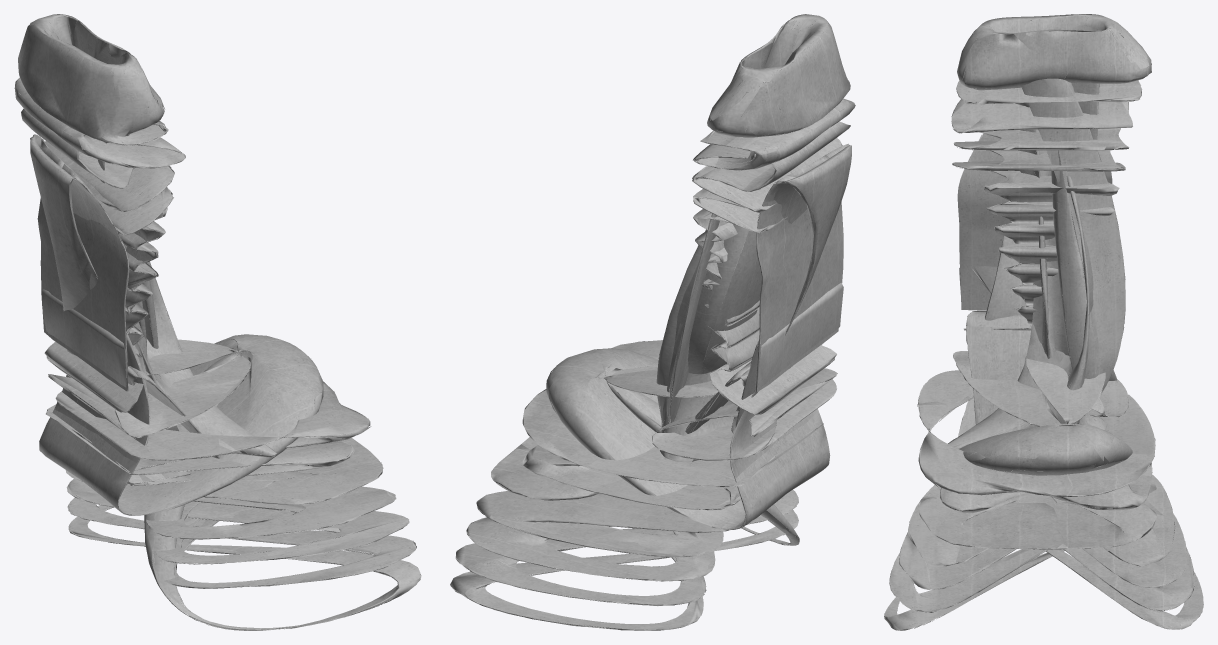
The model's file is higgs-boson-concrete-r-v26.glb.
3 views of the same model, side by side, from view 1: azimuth 30°, elevation 25°; view 2: azimuth 150°, elevation 25°; view 3: azimuth 270°, elevation 25° (orthographic). The views are drawn at different scales.
Parts seen in each view (by area): view 1: Object_1; view 2: Object_1; view 3: Object_1.
Boxes of the visible parts, x1,y1,x2,y2 form: Object_1: (14,14,421,630); Object_1: (450,14,855,630); Object_1: (884,14,1203,630).
Size of the model in its own units: 0.7128 by 1.25 by 0.7071.
1 material, 1 textured.
